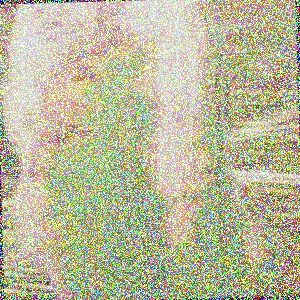Leaf_Blast: (3, 2, 220, 297)
